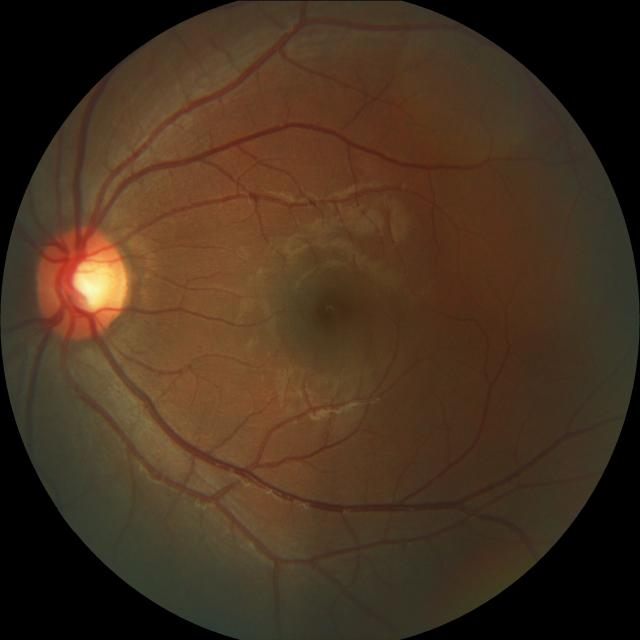OC: (58, 248, 118, 312)
OD: (38, 222, 131, 339)
